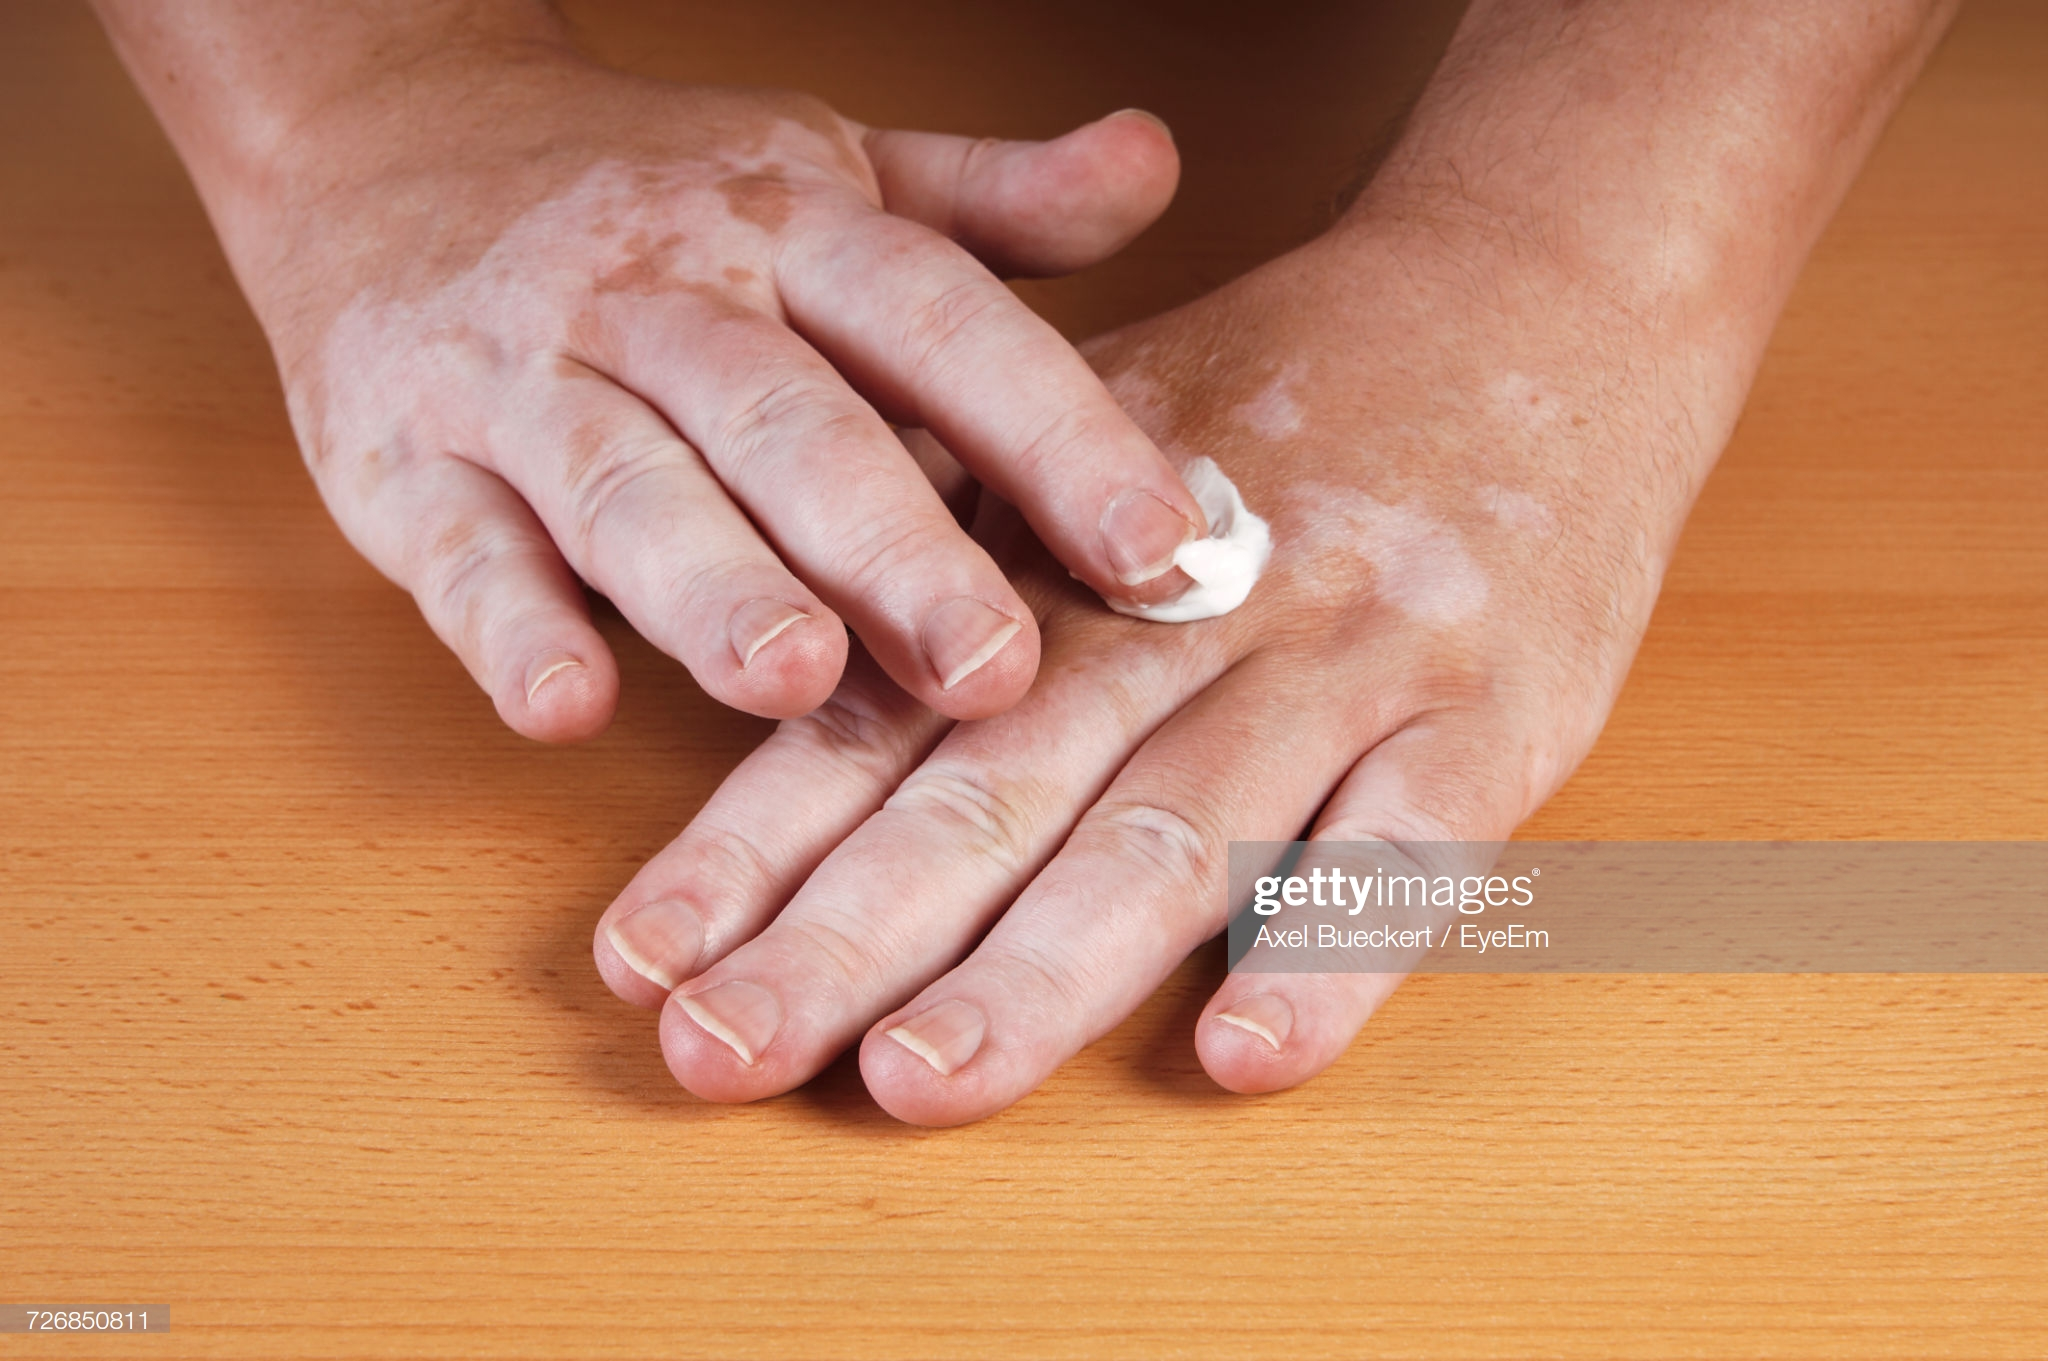vitiligo: (436, 141, 1344, 816)
